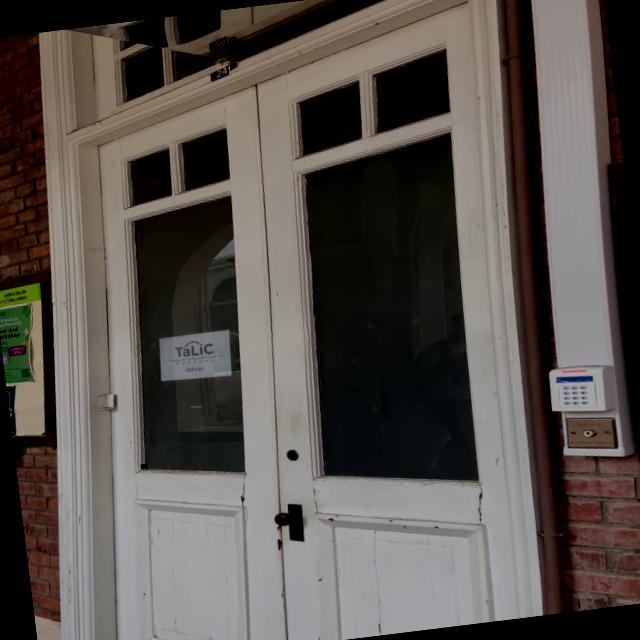room241: (205, 61, 241, 82)
